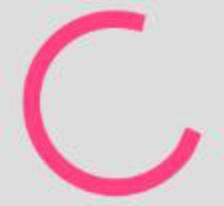ProgressBar: (1, 1, 223, 205)
